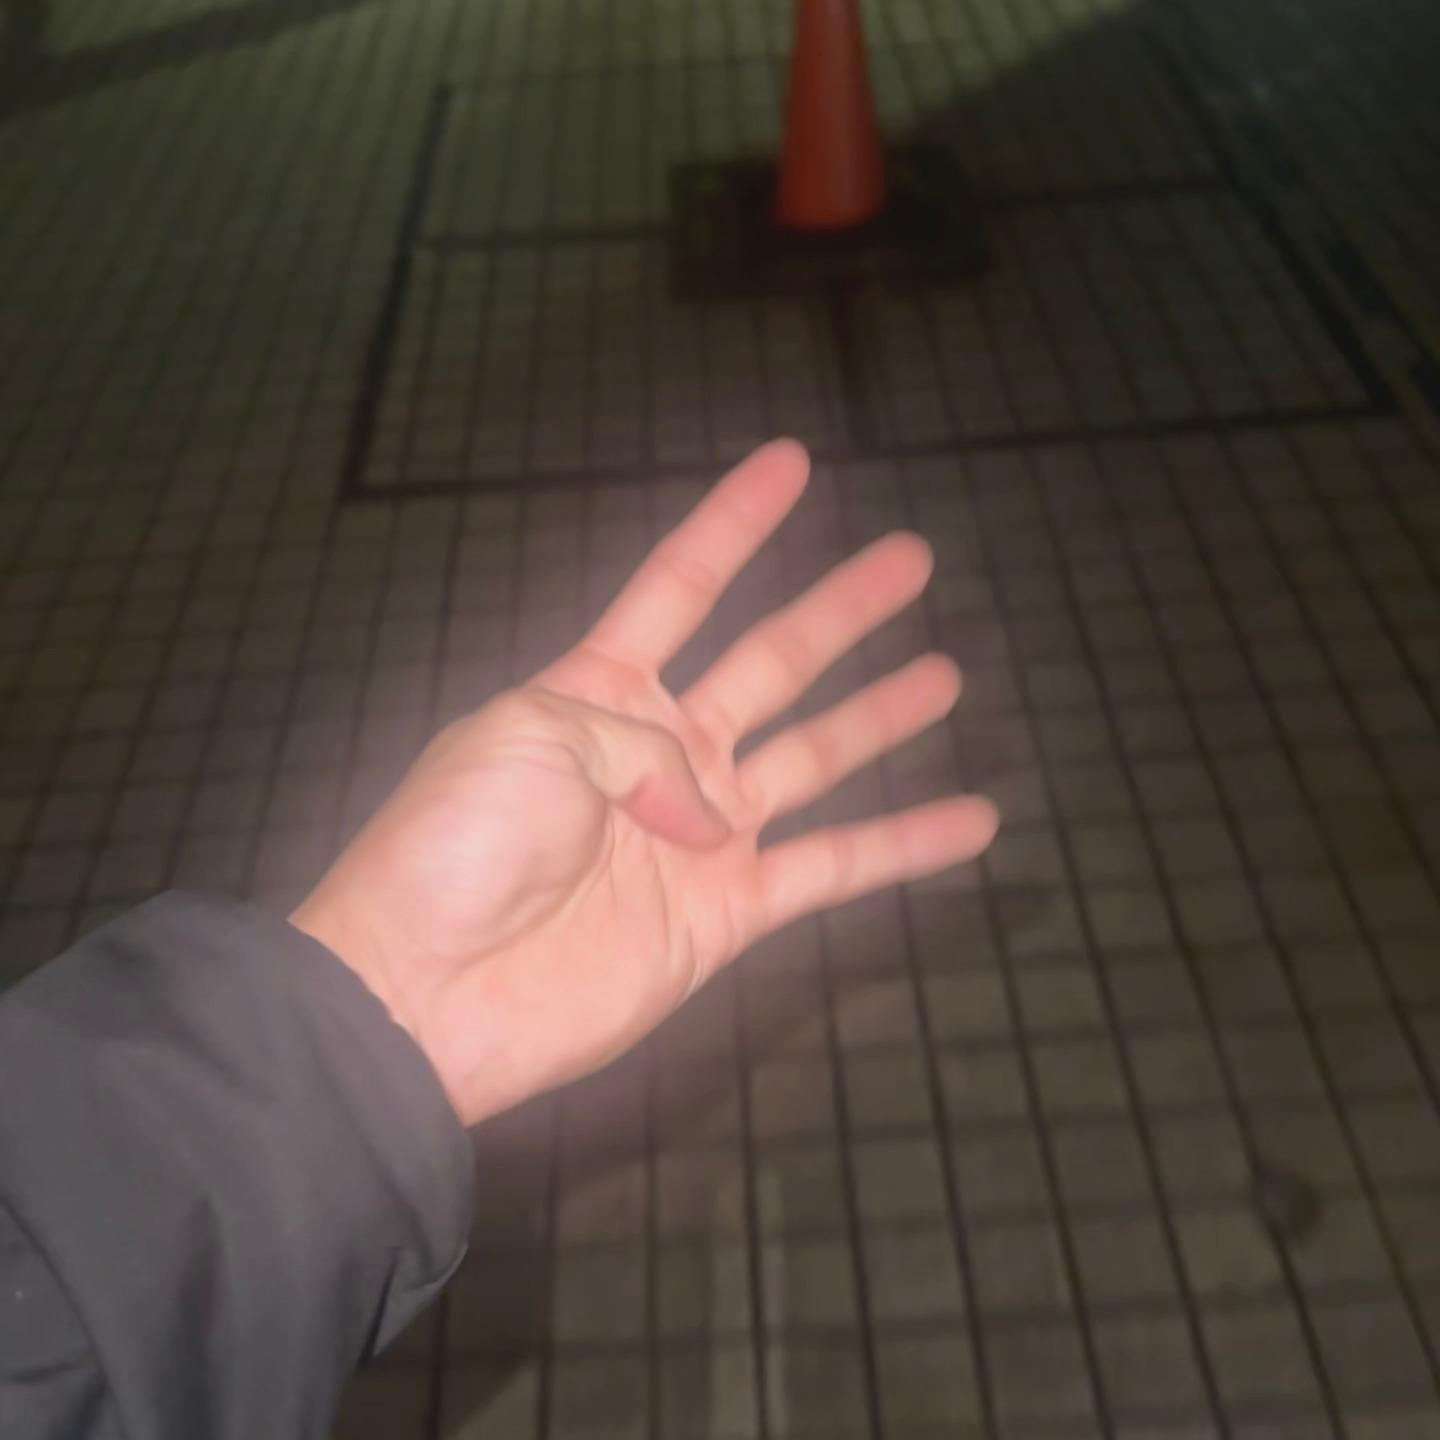without_gloves: (429, 305, 1135, 1117)
